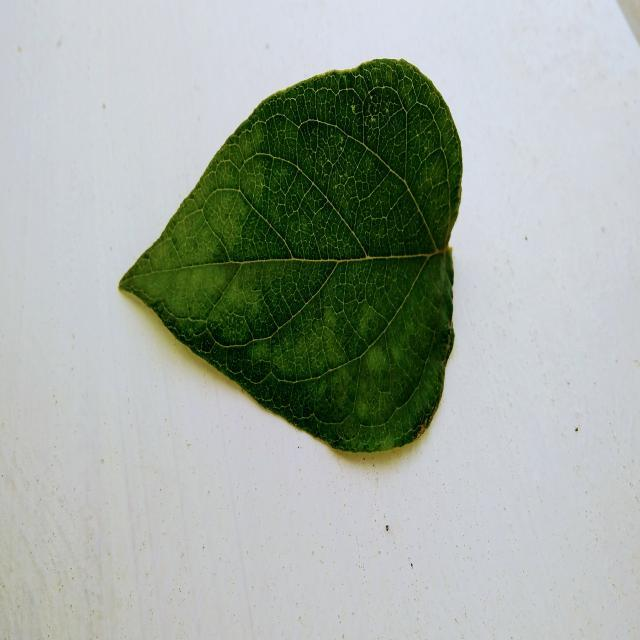leaf: (117, 56, 463, 454)
